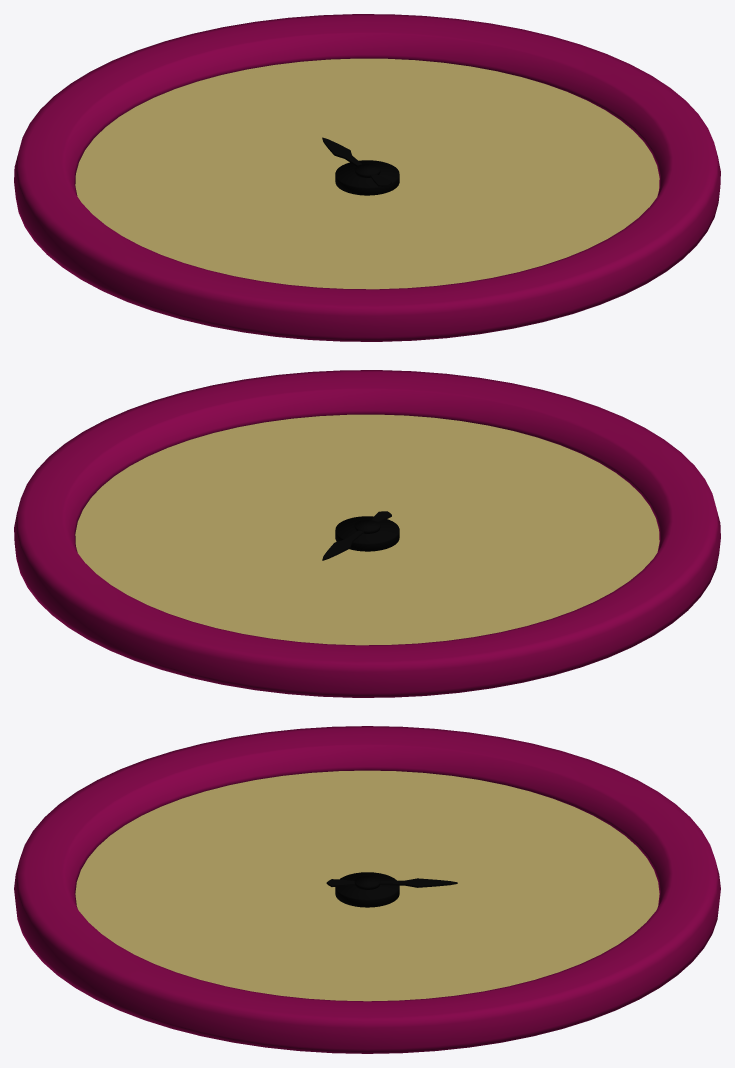
Rendered from clock.glb.
The picture shows the model from 3 angles, top to bottom: view 1: azimuth 30°, elevation 25°; view 2: azimuth 150°, elevation 25°; view 3: azimuth 270°, elevation 25°; orthographic projection.
Parts seen in each view (by area): view 1: BACK, BLACK.002, Circle.001, ARROOW; view 2: BACK, BLACK.002, Circle.001, ARROOW; view 3: BACK, BLACK.002, Circle.001, ARROOW.
Part boxes in pixels (<box>): BACK: <box>75,58,659,289</box>; BLACK.002: <box>14,14,720,341</box>; Circle.001: <box>335,160,399,195</box>; ARROOW: <box>322,137,391,186</box>; BACK: <box>75,414,659,645</box>; BLACK.002: <box>14,370,720,697</box>; Circle.001: <box>335,516,399,551</box>; ARROOW: <box>322,511,391,560</box>; BACK: <box>75,770,659,1001</box>; BLACK.002: <box>14,726,720,1053</box>; Circle.001: <box>335,872,399,907</box>; ARROOW: <box>326,878,457,887</box>.
Bounding box in the file's own units: 0.7627 × 0.041 × 0.7627.
